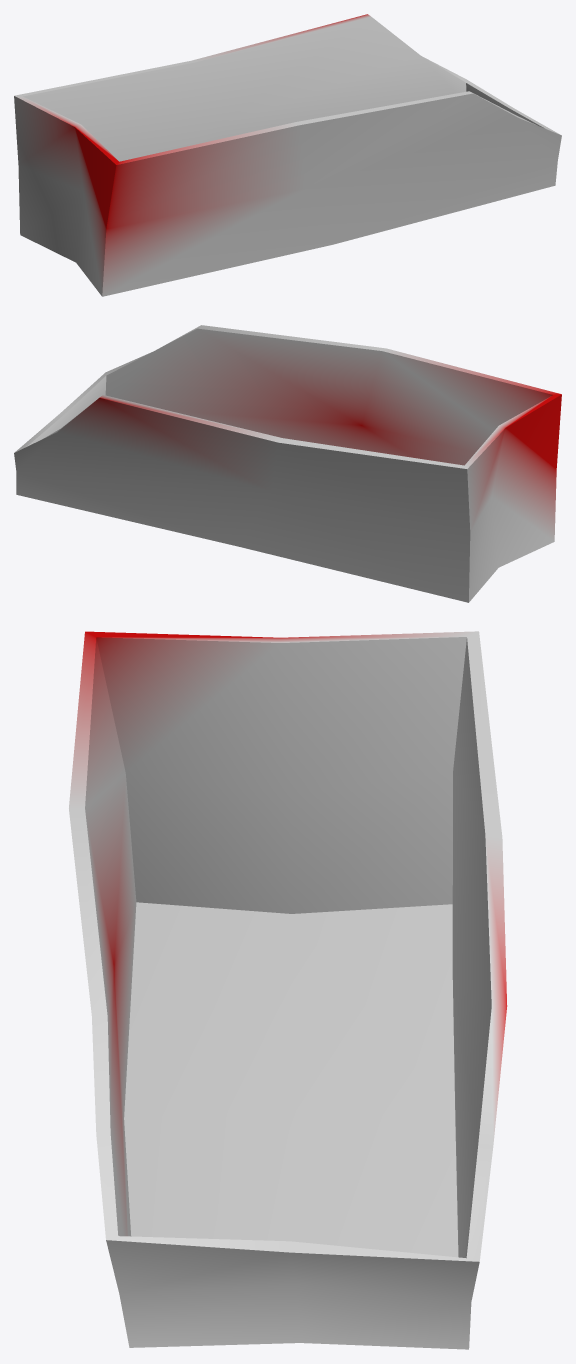
Rendered from Attic_Box_08_LP.glb.
3 renders of one model, top to bottom at view 1: azimuth 30°, elevation 25°; view 2: azimuth 150°, elevation 25°; view 3: azimuth 270°, elevation 25°, orthographic. The views are drawn at different scales.
Visible parts, largest first — view 1: Attic_Box_08_LP; view 2: Attic_Box_08_LP; view 3: Attic_Box_08_LP.
Part boxes in pixels (box(x1,y1,x2,y2)): Attic_Box_08_LP: box(14, 14, 561, 296); Attic_Box_08_LP: box(14, 325, 561, 602); Attic_Box_08_LP: box(69, 631, 507, 1349).
Bounding box in the file's own units: 0.6042 × 0.1789 × 0.2522.
